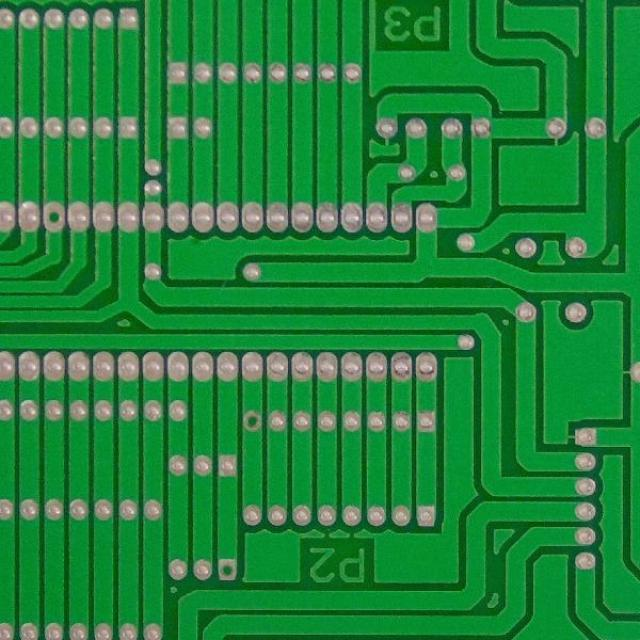missing_hole: (42, 202, 66, 230), (215, 557, 239, 583), (241, 408, 264, 435)
